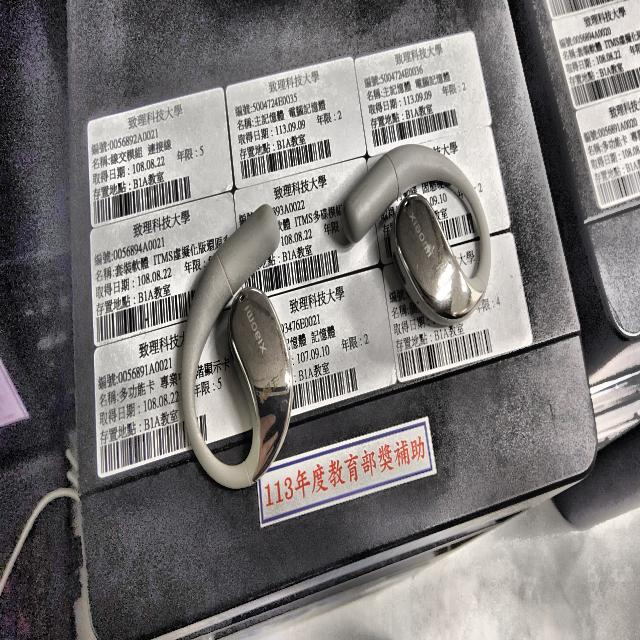Bluetooth headphones: (180, 205, 293, 488), (342, 144, 491, 324)
